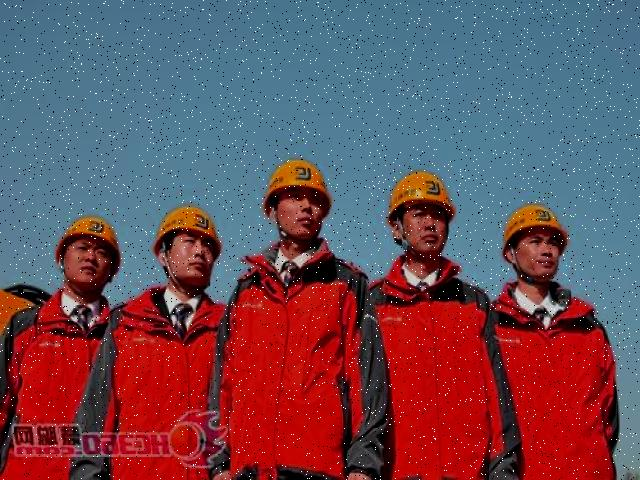Helmet: (259, 153, 339, 221), (500, 199, 574, 269), (56, 212, 124, 286), (150, 202, 228, 264), (387, 166, 461, 230)
